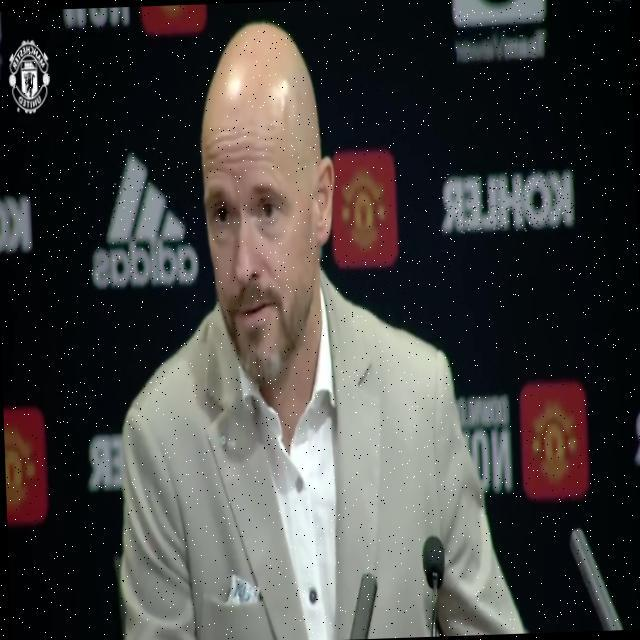Adidas: (87, 145, 198, 290)
Kohler: (439, 167, 575, 234)
TeamViewer: (452, 0, 546, 62)
